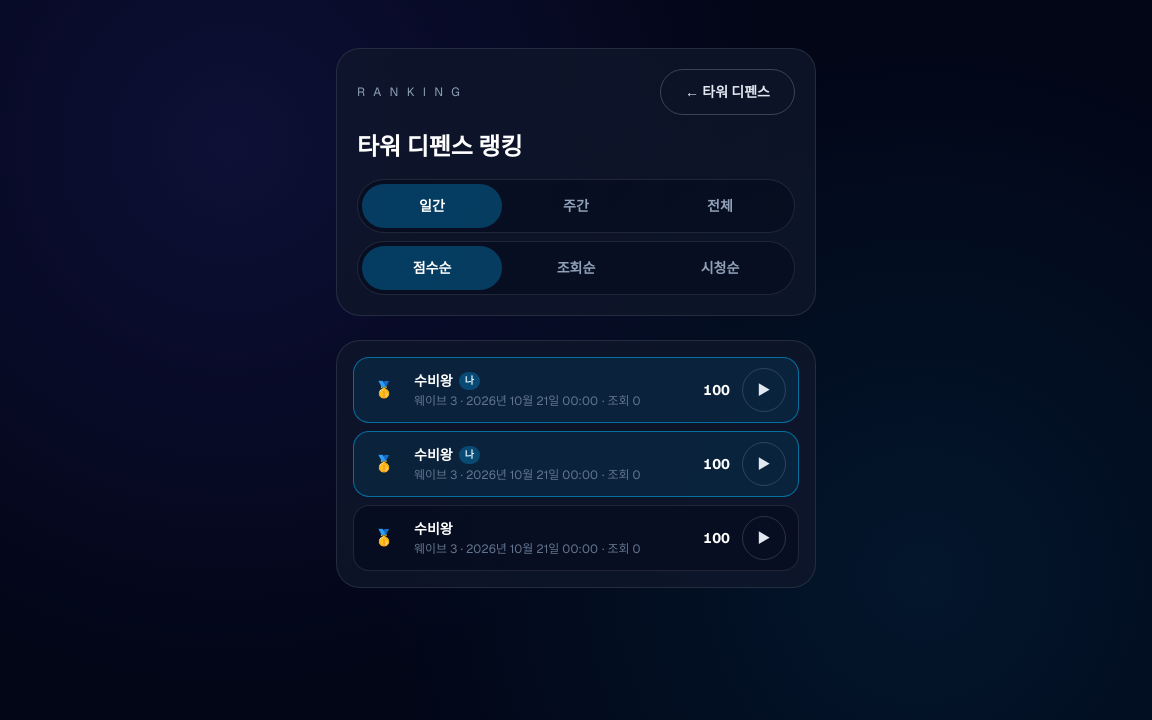
Scenario: RankingsView — 로그인이면 서버 기준 "나"(isMine) › 로그인이면 점수순·조회순 모두 토큰을 실어 부르고, 서버가 표시한 내 기록에 "나" — 이 브라우저 기록과 합친다
Expected: the text "나" is shown 2 times, [459,372,480,390]; [459,446,480,464]
Click the button "조회순" at (576, 268), box [506,246,646,290]
Wait 250 ms
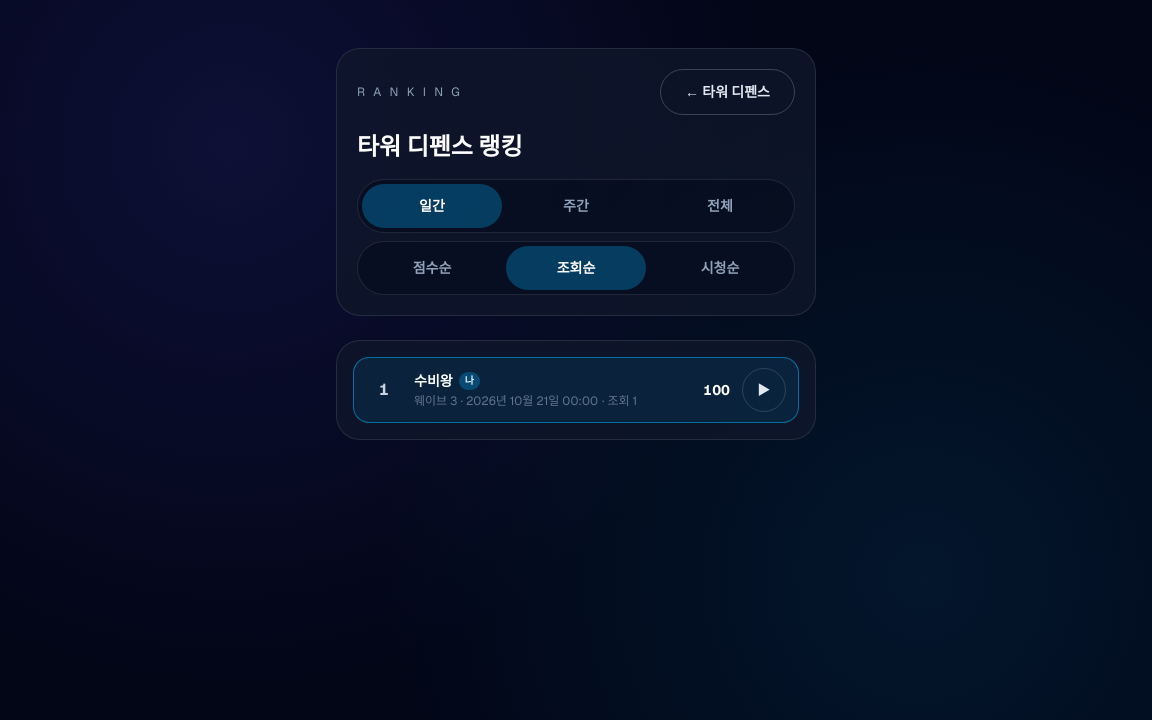
Result: the text "나" is shown once at [459,372,480,390]
